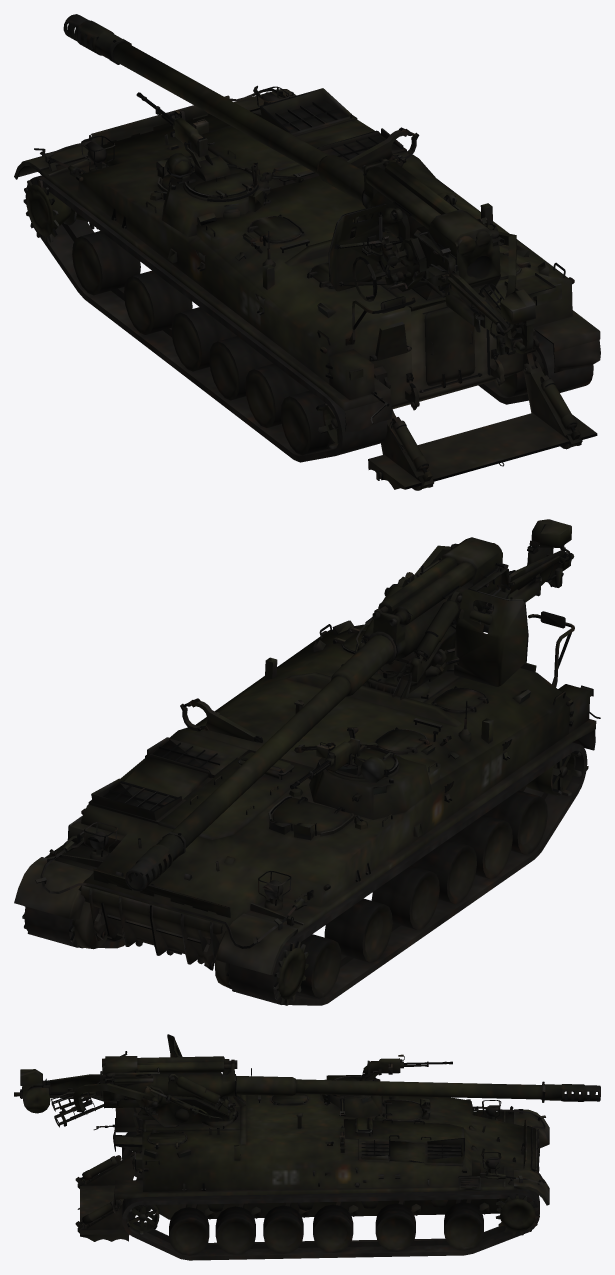
The model's file is giatsint-wreck.glb.
The picture shows the model from 3 angles, top to bottom: view 1: azimuth 30°, elevation 25°; view 2: azimuth 150°, elevation 25°; view 3: azimuth 270°, elevation 25°; orthographic projection. The views are drawn at different scales.
Visible parts, largest first — view 1: hull; view 2: hull; view 3: hull.
Boxes of the visible parts, x1=… form: hull: x1=14, y1=14, x2=600, y2=490; hull: x1=14, y1=519, x2=600, y2=1005; hull: x1=14, y1=1034, x2=600, y2=1260.
Size of the model in its own units: 3.01 by 2.75 by 8.94.
Materials: 1 (1 with a texture image).
